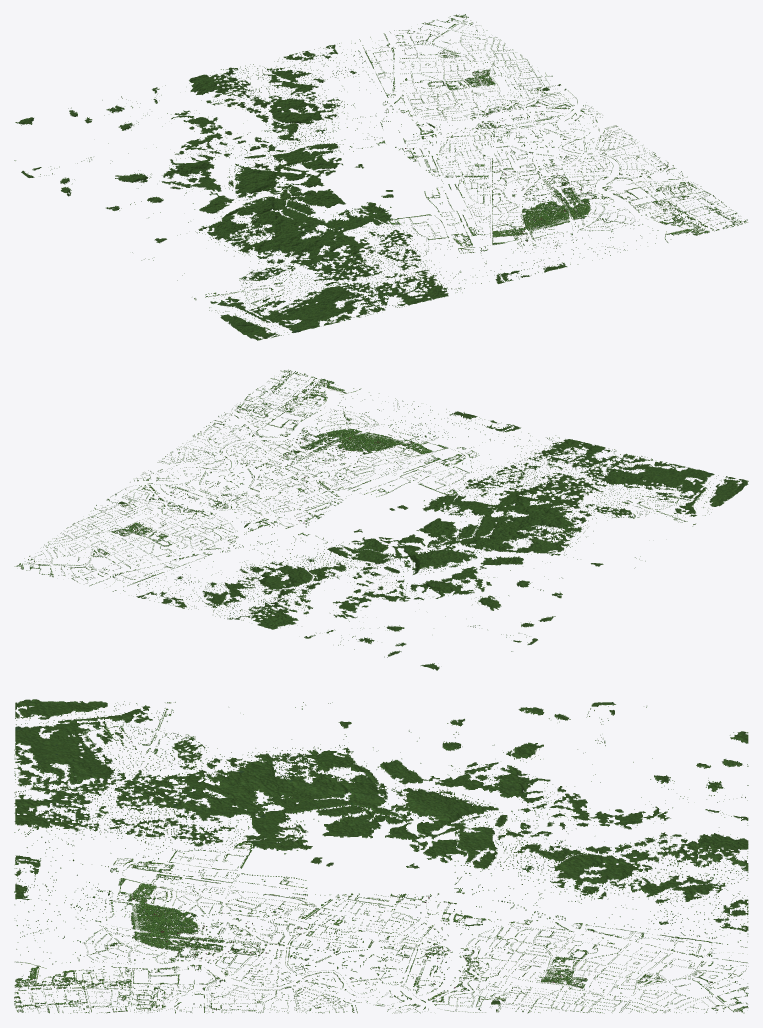
Rendered from context_trees.glb.
The picture shows the model from 3 angles, top to bottom: view 1: azimuth 30°, elevation 25°; view 2: azimuth 150°, elevation 25°; view 3: azimuth 270°, elevation 25°; orthographic projection. The views are drawn at different scales.
Parts seen in each view (by area): view 1: omgeving_bos, omgeving_bomen, omgeving_bomen_nabij; view 2: omgeving_bos, omgeving_bomen, omgeving_bomen_nabij; view 3: omgeving_bos, omgeving_bomen, omgeving_bomen_nabij.
Part boxes in pixels (left/top/right/bottom): omgeving_bos: left=15, top=45, right=720, bottom=340; omgeving_bomen: left=14, top=14, right=747, bottom=340; omgeving_bomen_nabij: left=197, top=110, right=516, bottom=238; omgeving_bos: left=118, top=381, right=748, bottom=670; omgeving_bomen: left=14, top=369, right=741, bottom=669; omgeving_bomen_nabij: left=228, top=463, right=527, bottom=588; omgeving_bos: left=15, top=699, right=748, bottom=1004; omgeving_bomen: left=14, top=700, right=748, bottom=1013; omgeving_bomen_nabij: left=234, top=788, right=528, bottom=925.
Size of the model in its own units: 6010 by 60.24 by 6011.
